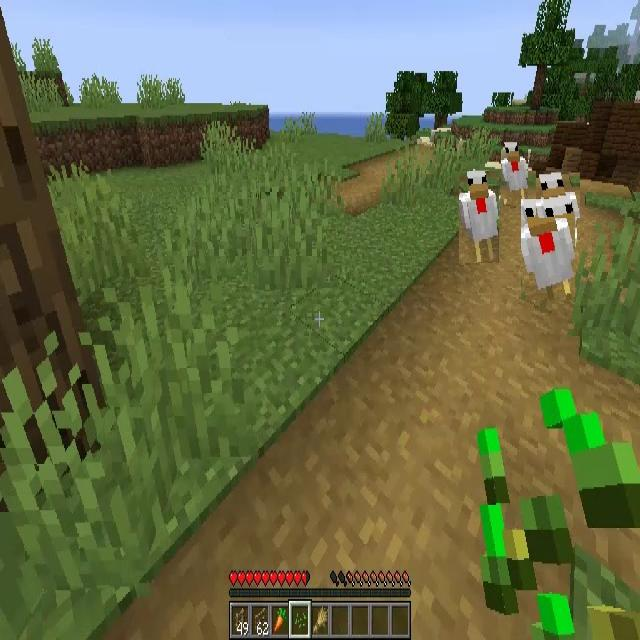duck: (521, 199, 575, 300), (459, 172, 499, 264), (501, 141, 528, 199)
rabbit: (536, 171, 580, 218)
